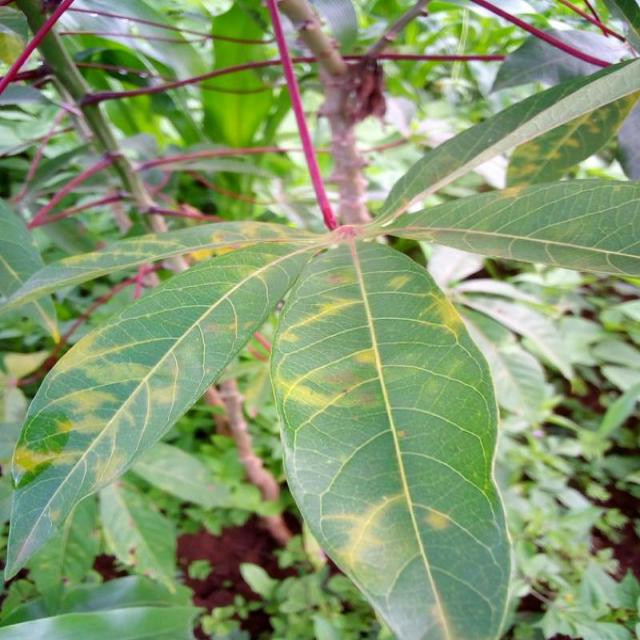cassava leaf: (4, 227, 326, 585), (268, 233, 514, 638)
